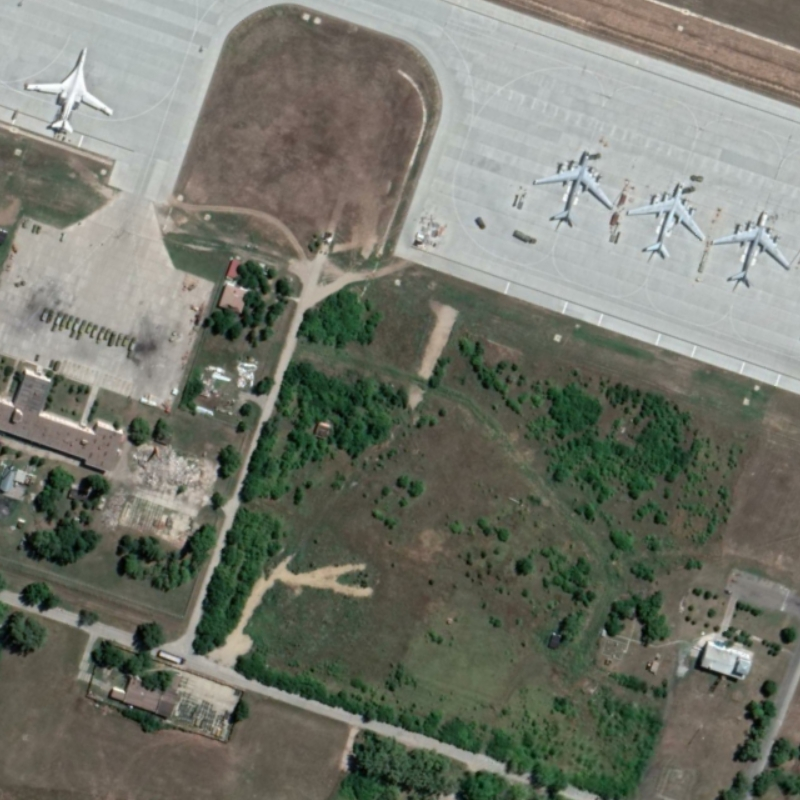A17: (530, 149, 618, 228), (709, 211, 793, 292), (623, 181, 707, 259)
A6: (20, 44, 117, 136)
